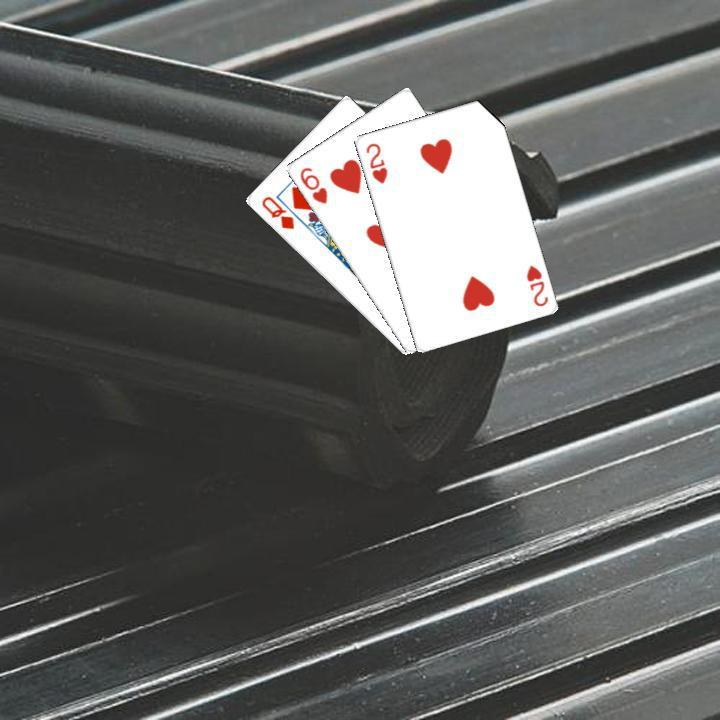2: (521, 260, 550, 308), (361, 138, 389, 186)
6: (295, 162, 329, 206)
Q: (257, 192, 296, 231)
